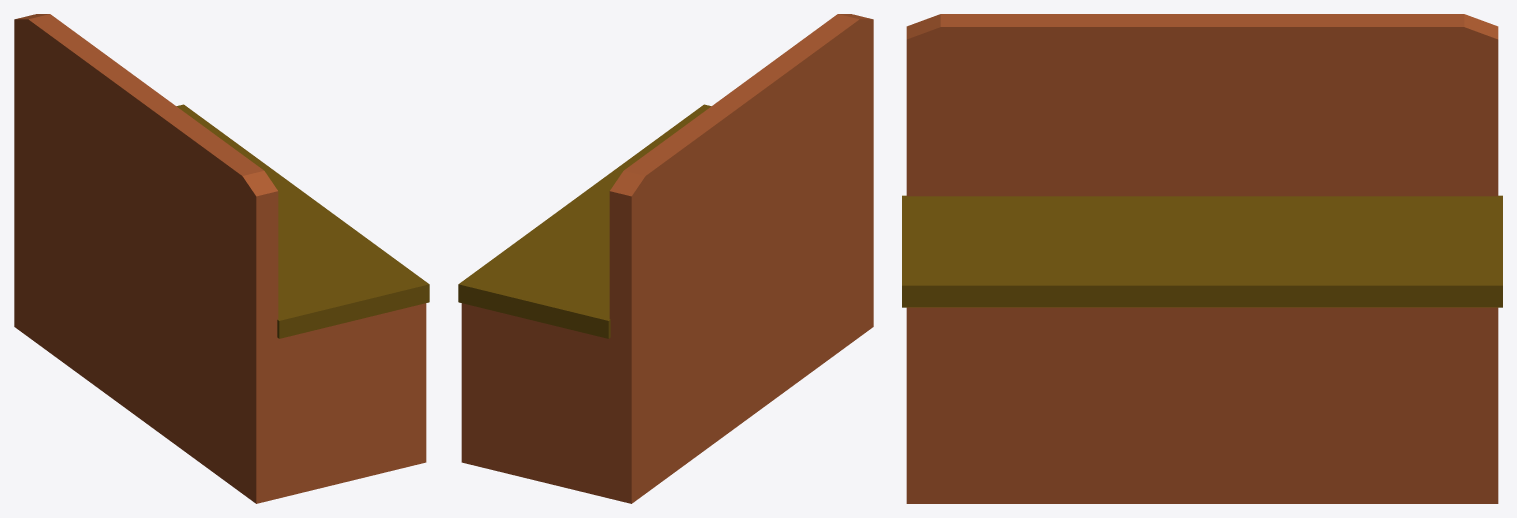
Rendered from mobiletto4.fbx.
3 renders of one model, left to right at view 1: azimuth 30°, elevation 25°; view 2: azimuth 150°, elevation 25°; view 3: azimuth 270°, elevation 25°, orthographic. The views are drawn at different scales.
Visible parts, largest first — view 1: Box, Top; view 2: Box, Top; view 3: Box, Top.
Part boxes in pixels (<box>): Box: <box>14,14,426,503</box>; Top: <box>176,104,429,338</box>; Box: <box>461,14,873,503</box>; Top: <box>458,104,711,338</box>; Box: <box>906,14,1498,503</box>; Top: <box>902,195,1502,307</box>.
Size of the model in its own units: 202 by 357 by 501.
